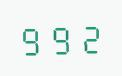nine: (18, 21, 45, 56), (47, 20, 74, 55)
two: (75, 19, 102, 54)
